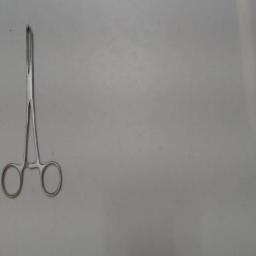Allis Tissue Forceps: (1, 12, 69, 202)
